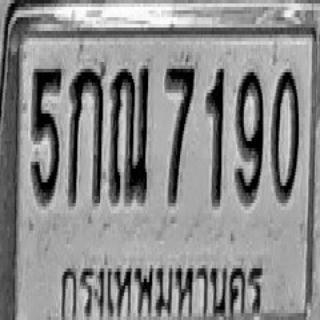A01: (68, 64, 105, 205)
A19: (109, 62, 149, 203)
N00: (271, 67, 299, 201)
N01: (205, 66, 224, 206)
N05: (31, 65, 62, 203)
N07: (165, 62, 194, 203)
N09: (235, 69, 263, 203)
P04: (54, 244, 273, 320)
